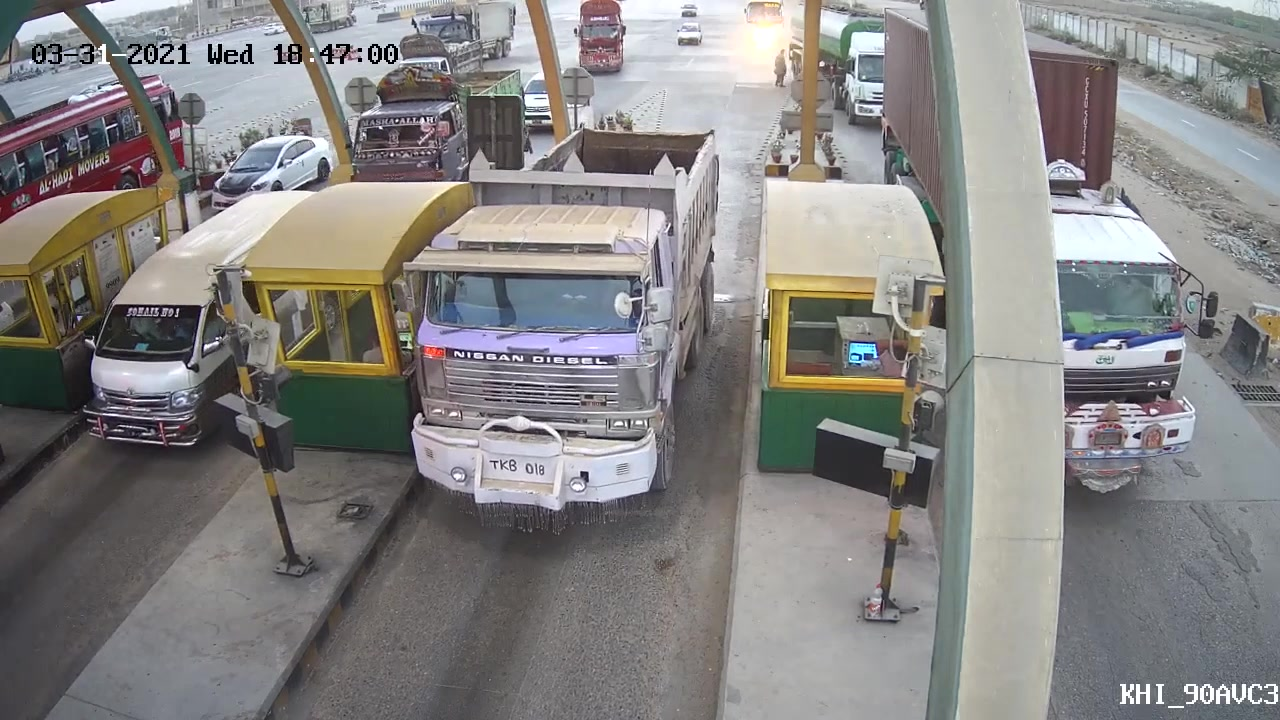F5: (403, 124, 732, 534)
